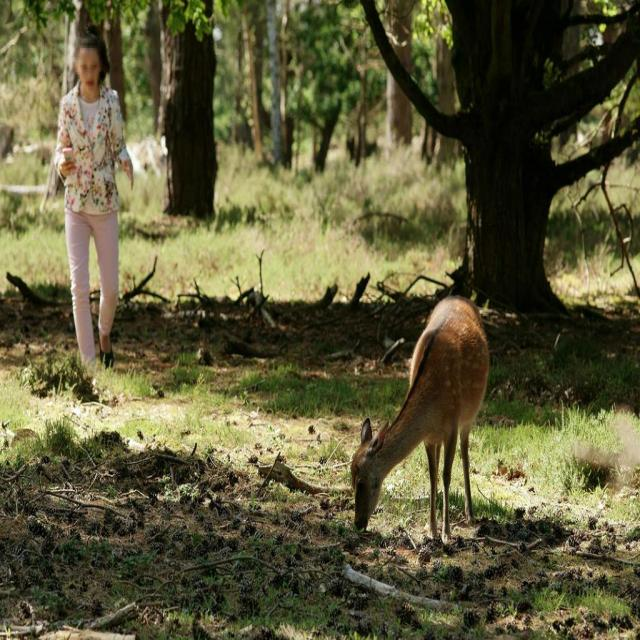Deer: (350, 294, 491, 546)
